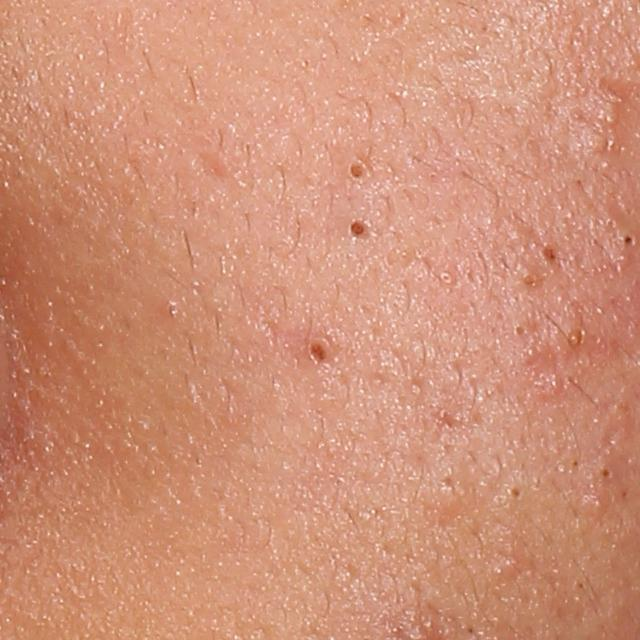atrophic_scar: (194, 148, 229, 185)
comedo: (596, 84, 624, 131), (304, 340, 329, 371), (346, 215, 371, 243), (501, 480, 525, 507), (516, 269, 543, 293), (347, 158, 367, 182), (510, 320, 532, 341), (569, 327, 585, 352), (618, 230, 637, 250), (573, 577, 593, 594), (437, 269, 453, 286)
